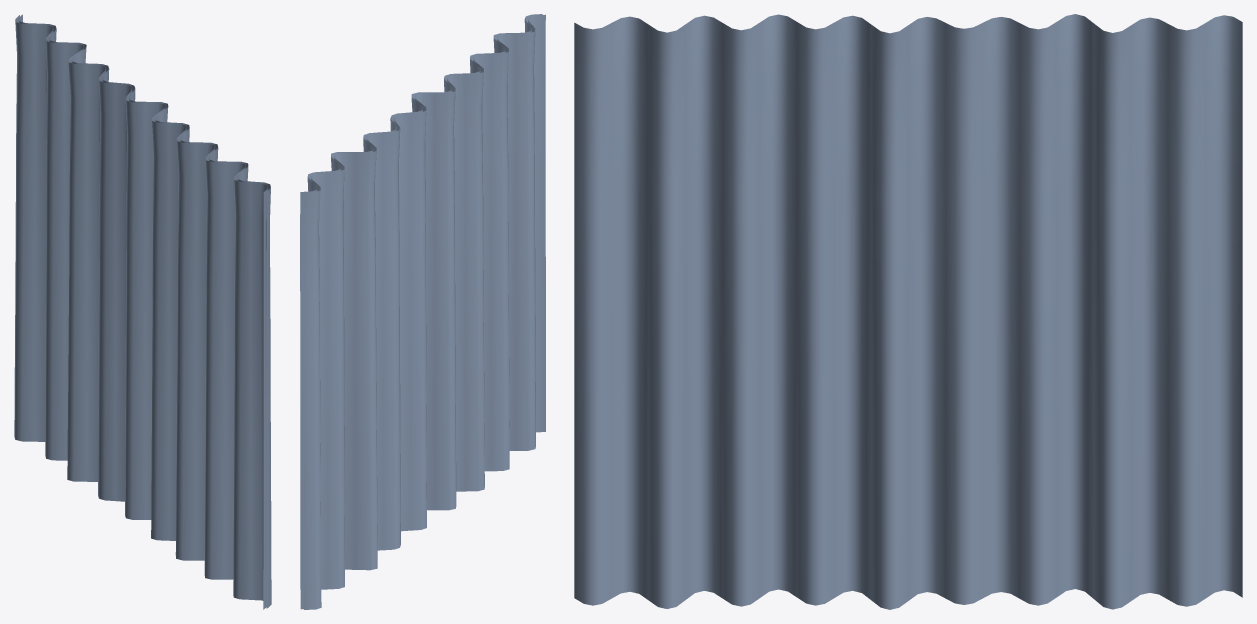
File: cartain.fbx
The picture shows the model from 3 angles, left to right: view 1: azimuth 30°, elevation 25°; view 2: azimuth 150°, elevation 25°; view 3: azimuth 270°, elevation 25°; orthographic projection. The views are drawn at different scales.
Parts seen in each view (by area): view 1: 平面; view 2: 平面; view 3: 平面.
Part boxes in pixels (bbox=[...]): 平面: bbox=[14, 14, 271, 609]; 平面: bbox=[300, 14, 545, 609]; 平面: bbox=[574, 14, 1242, 609].
Bounding box in the file's own units: 15.95 × 184 × 195.
